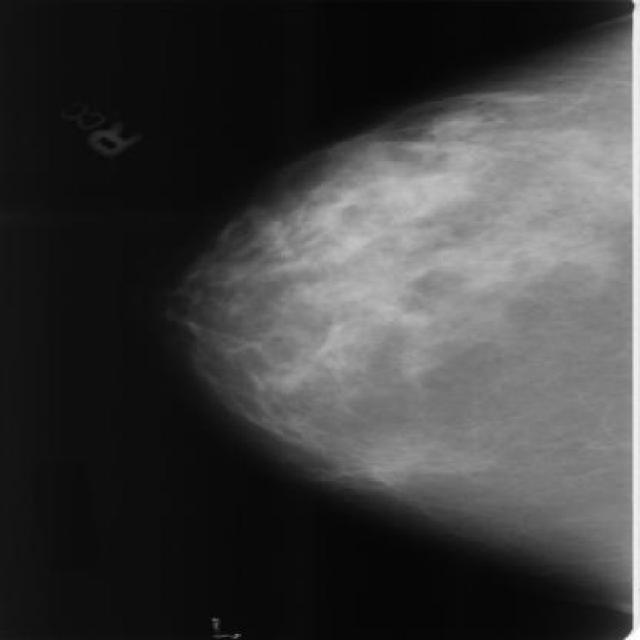tumor: (220, 127, 589, 420)
